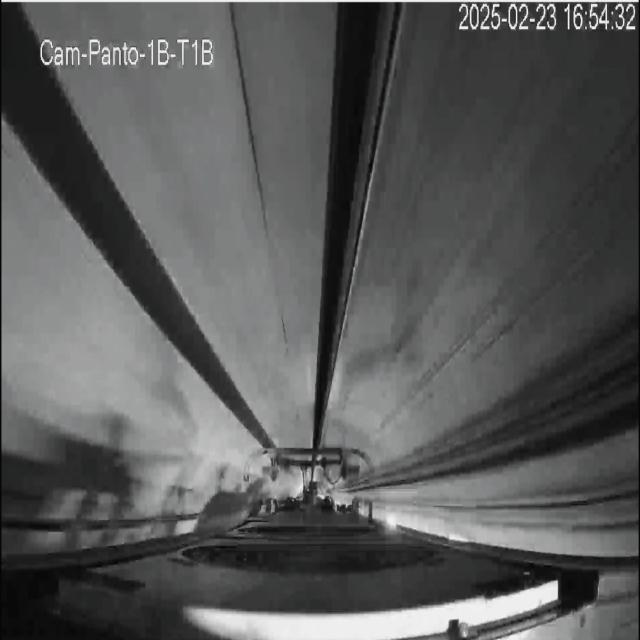Camera Stamp: (36, 29, 221, 71)
Date Stamp: (458, 3, 637, 33)
No - Spark: (205, 323, 371, 484), (167, 393, 287, 533)
